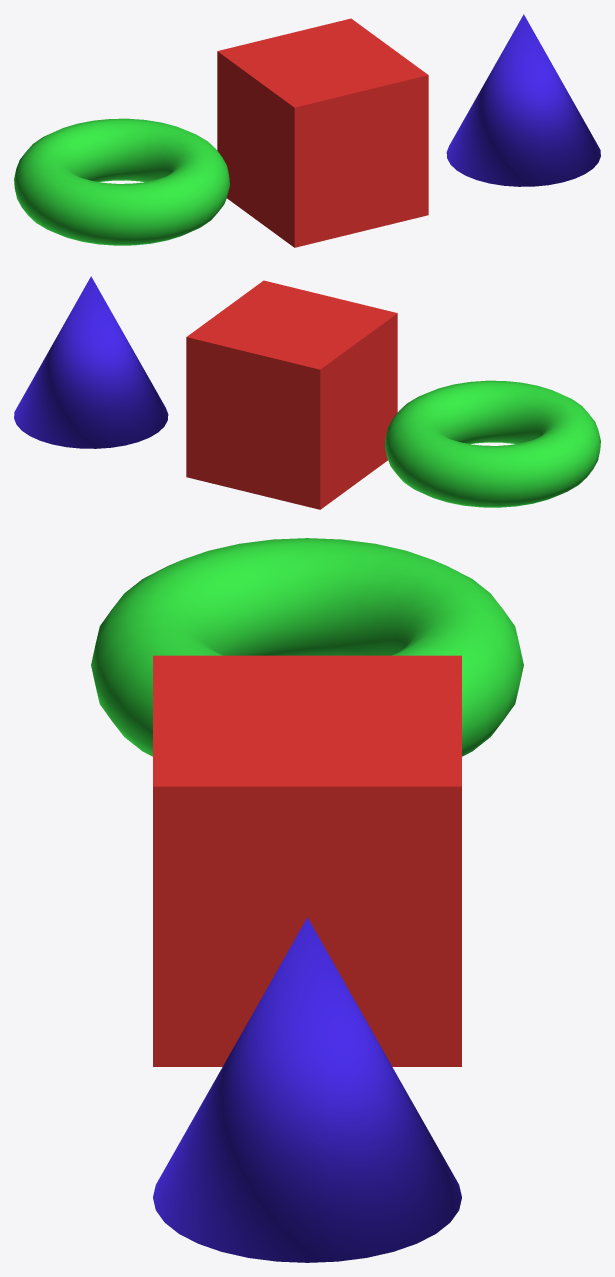
The model's file is Shapes.glb.
3 views of the same model, one above another, from view 1: azimuth 30°, elevation 25°; view 2: azimuth 150°, elevation 25°; view 3: azimuth 270°, elevation 25° (orthographic). The views are drawn at different scales.
Parts seen in each view (by area): view 1: Cube, Torus, Cone; view 2: Cube, Torus, Cone; view 3: Cube, Cone, Torus.
Boxes of the visible parts, <box> form: Cube: <box>217,18,428,247</box>; Torus: <box>14,118,229,245</box>; Cone: <box>446,14,600,186</box>; Cube: <box>186,280,397,509</box>; Torus: <box>385,380,600,507</box>; Cone: <box>14,276,168,448</box>; Cube: <box>153,655,461,1066</box>; Cone: <box>153,917,461,1262</box>; Torus: <box>91,538,523,756</box>.
Bounding box in the file's own units: 8.4 × 2 × 2.8.
